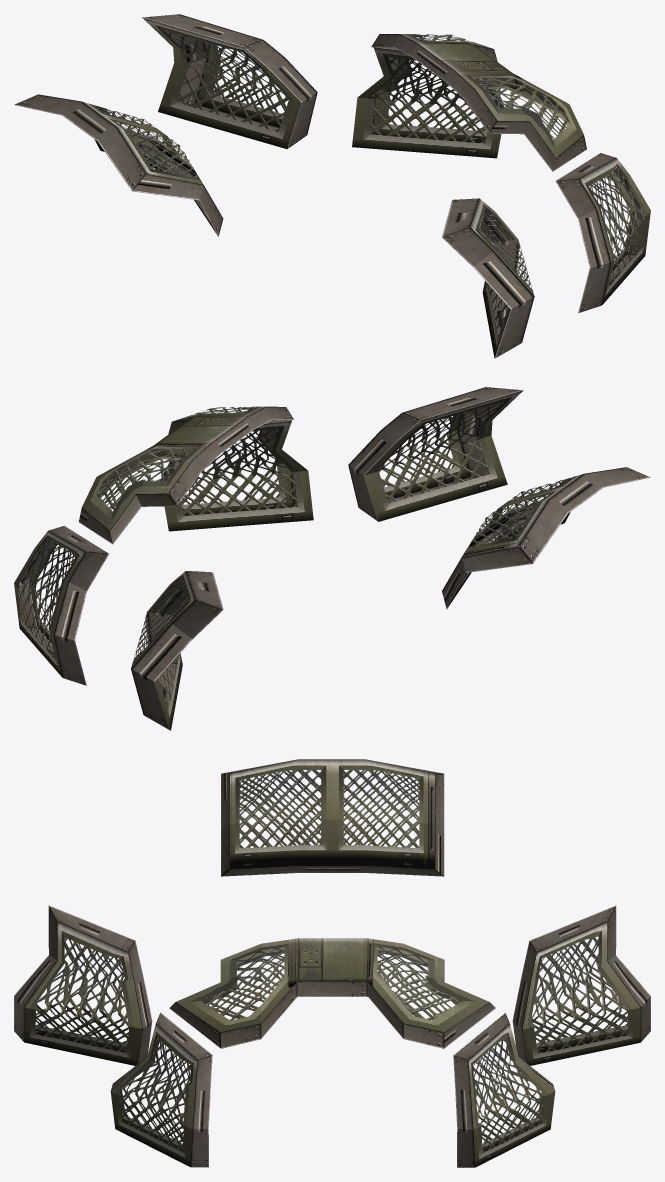
File: flying_unit_shield.obj
3 views of the same model, one above another, from view 1: azimuth 30°, elevation 25°; view 2: azimuth 150°, elevation 25°; view 3: azimuth 270°, elevation 25° (orthographic). The views are drawn at different scales.
Parts seen in each view (by area): view 1: polySurface5; view 2: polySurface5; view 3: polySurface5.
Boxes of the visible parts, x1=… form: polySurface5: x1=14, y1=14, x2=650, y2=358; polySurface5: x1=14, y1=387, x2=650, y2=730; polySurface5: x1=14, y1=759, x2=650, y2=1167.
Size of the model in its own units: 30.53 by 11.89 by 35.33.
Materials: 1 (1 with a texture image).
